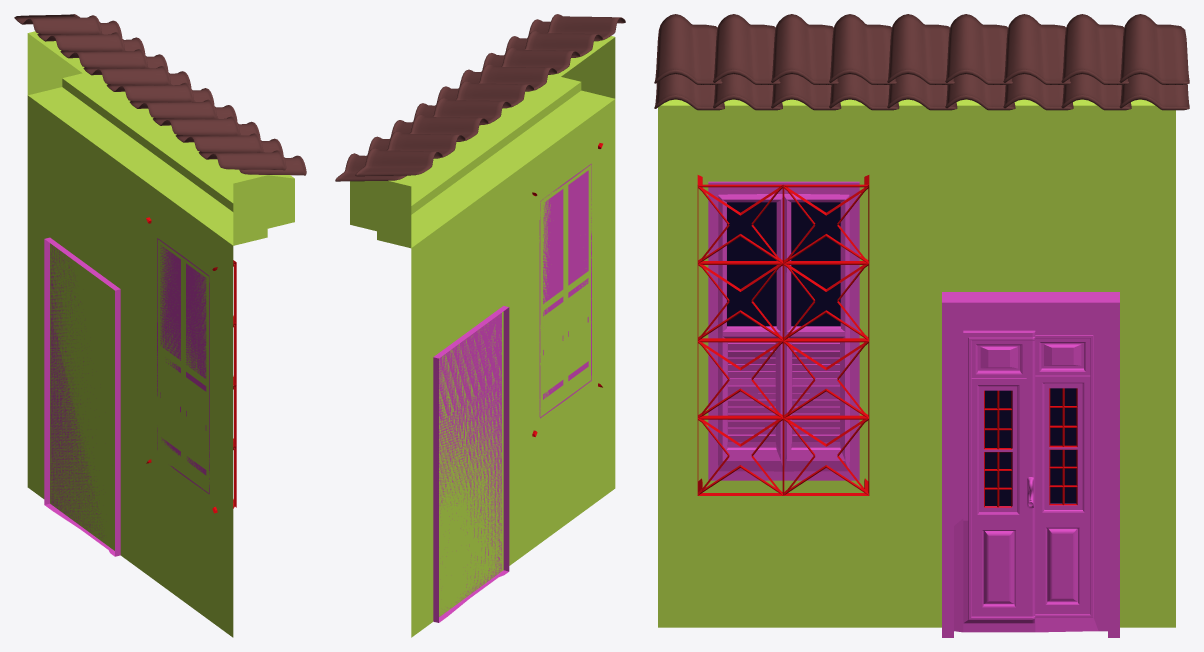
Rendered from Casa1.fbx.
3 renders of one model, left to right at view 1: azimuth 30°, elevation 25°; view 2: azimuth 150°, elevation 25°; view 3: azimuth 270°, elevation 25°, orthographic. The views are drawn at different scales.
Parts seen in each view (by area): view 1: Casa1; view 2: Casa1; view 3: Casa1.
Part boxes in pixels (x1,y1,x2,y2): Casa1: [14, 14, 306, 637]; Casa1: [335, 14, 625, 637]; Casa1: [654, 14, 1189, 637].
Bounding box in the file's own units: 49.39 × 259 × 207.
